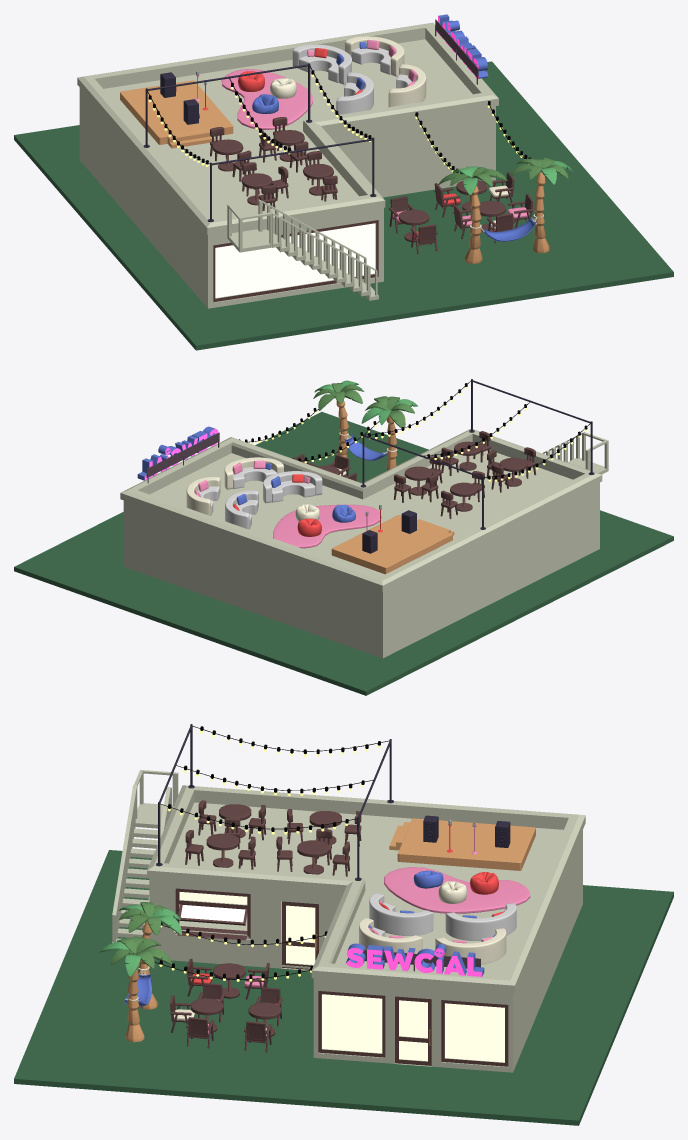
The model's file is sewcial-exterior.gltf.
The picture shows the model from 3 angles, top to bottom: view 1: azimuth 30°, elevation 25°; view 2: azimuth 150°, elevation 25°; view 3: azimuth 270°, elevation 25°; orthographic projection. The views are drawn at different scales.
Parts seen in each view (by area): view 1: Ground, Ceiling, Wall, Stage, Stairs, Carpet.001, OutdoorSofa.002, OutdoorSofa.001, StairsTop, SewcialSignboard, Cube.051, Cube.047 (+9 smaller); view 2: Wall, Ground, Ceiling, Stage, Carpet.001, OutdoorSofa.001, OutdoorSofa.002, SewcialSignboard, Cube.047, Cube.051, StairsTop, Cube.035 (+1 smaller); view 3: Ground, Wall, Ceiling, Stage, Stairs, Carpet.001, OutdoorSofa.001, SewcialSignboard, OutdoorSofa.002, StairsTop, PalmTree, RoofSeat.001 (+2 smaller).
Part boxes in pixels (x1,y1,x2,y2): Ground: (14,61,673,350); Ceiling: (77,22,498,234); Wall: (79,88,495,308); Stage: (120,80,233,148); Stairs: (260,200,378,300); Carpet.001: (221,69,312,129); OutdoorSofa.002: (345,36,426,107); OutdoorSofa.001: (292,44,373,114); StairsTop: (227,199,271,252); SewcialSignboard: (436,14,488,78); Cube.051: (351,48,416,88); Cube.047: (299,56,364,96); Wall: (123,482,599,658); Ground: (14,411,673,695); Ceiling: (120,429,602,591); Stage: (331,515,454,574); Carpet.001: (273,504,381,548); OutdoorSofa.001: (225,471,322,529); OutdoorSofa.002: (186,457,283,515); SewcialSignboard: (137,426,218,480); Cube.047: (236,480,315,528); Cube.051: (197,467,276,514); StairsTop: (563,432,608,474); Cube.035: (146,432,219,477); Ground: (14,850,673,1125); Wall: (149,830,582,1072); Ceiling: (147,785,585,993); Stage: (389,818,535,870); Stairs: (112,785,170,942); Carpet.001: (384,867,530,913); OutdoorSofa.001: (369,893,516,940); SewcialSignboard: (346,943,484,976); OutdoorSofa.002: (359,918,506,964); StairsTop: (134,770,178,820); PalmTree: (125,964,144,1042); RoofSeat.001: (206,833,239,867).
Bounding box in the file's own units: 5.92 × 1.62 × 6.1.
